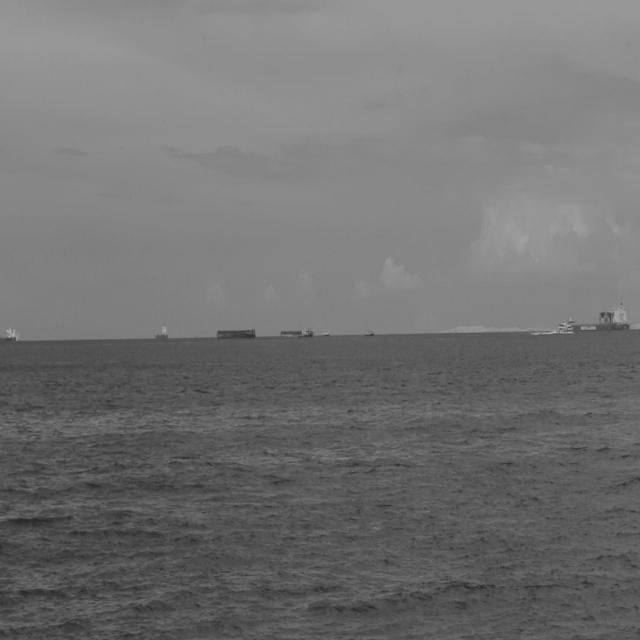ship: (566, 302, 634, 332), (278, 325, 314, 340), (1, 324, 20, 342), (155, 320, 171, 340), (554, 320, 572, 336)
